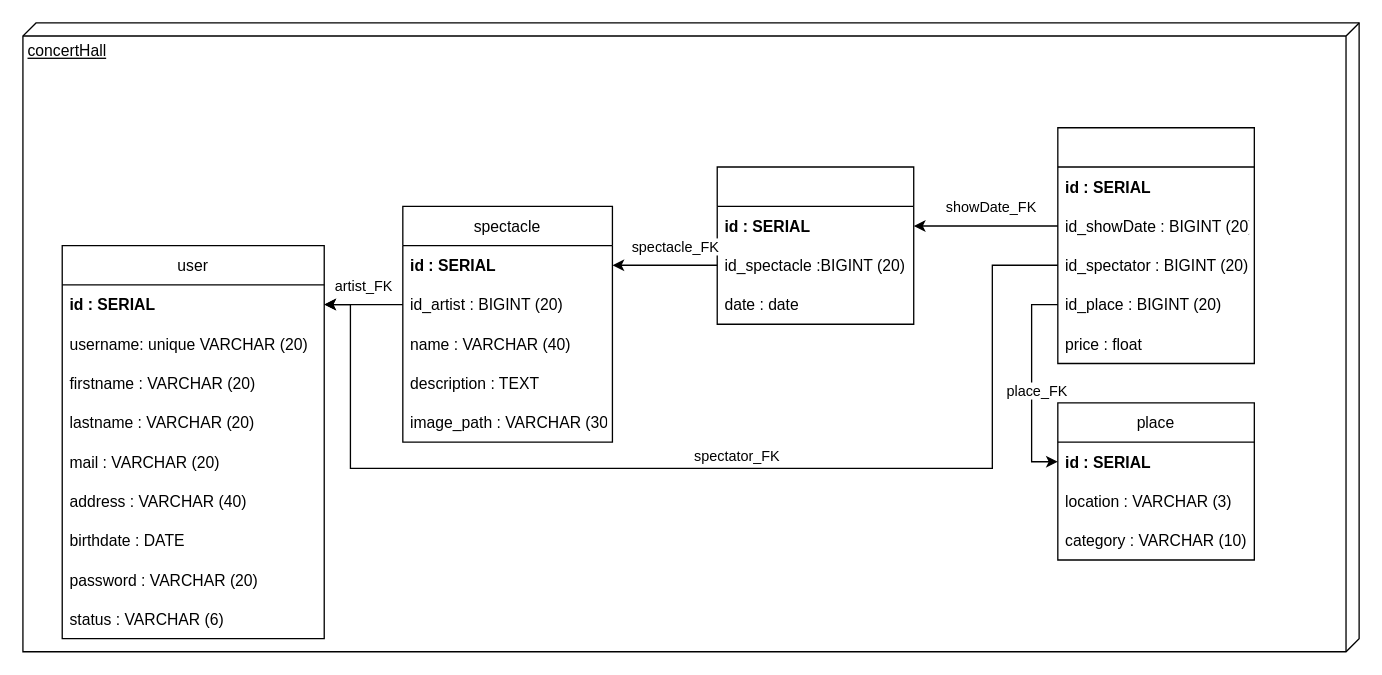
The diagram is 1382 pixels wide and 675 high, and some of its shapes have lost their labels. The box of each missing label's shape, as (x1, y1, x2, y2) in pixels:
showDate: (716, 166, 914, 324)
ticket: (1057, 126, 1254, 364)
